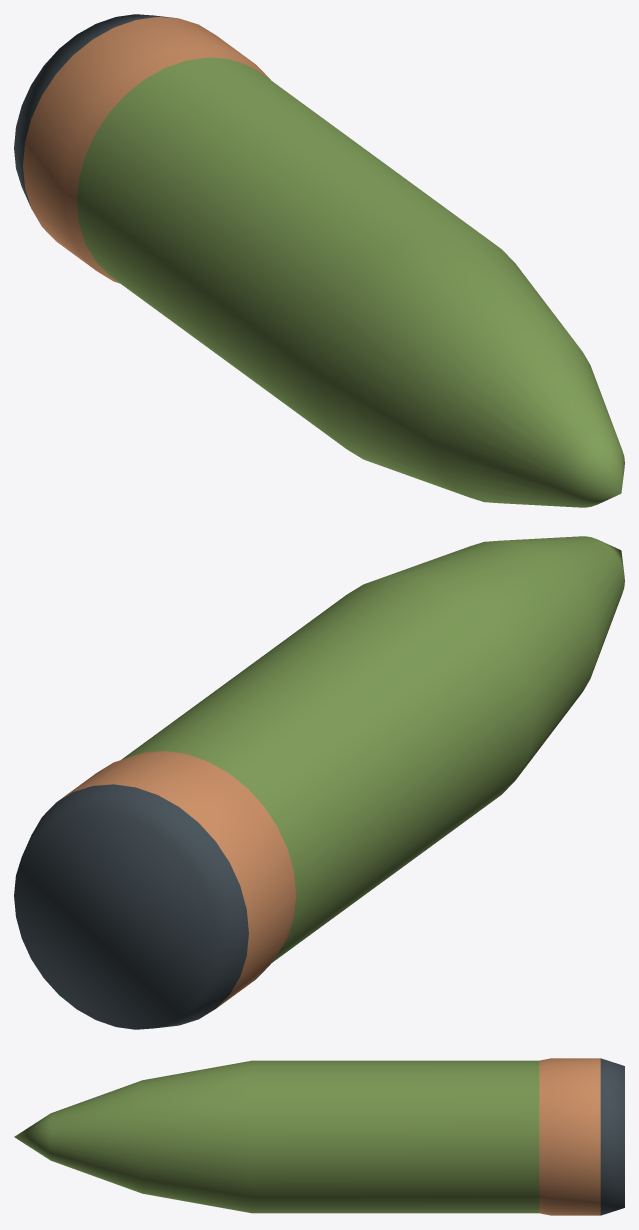
File: siege_800_projectile_display.glb
The picture shows the model from 3 angles, top to bottom: view 1: azimuth 30°, elevation 25°; view 2: azimuth 150°, elevation 25°; view 3: azimuth 270°, elevation 25°; orthographic projection. The views are drawn at different scales.
Visible parts, largest first — view 1: AMMO_MESH.055; view 2: AMMO_MESH.055; view 3: AMMO_MESH.055.
Part boxes in pixels (x1,y1,x2,y2): AMMO_MESH.055: [14, 14, 624, 507]; AMMO_MESH.055: [14, 536, 624, 1029]; AMMO_MESH.055: [14, 1058, 624, 1215].
Size of the model in its own units: 0.8 by 0.8 by 3.1.
